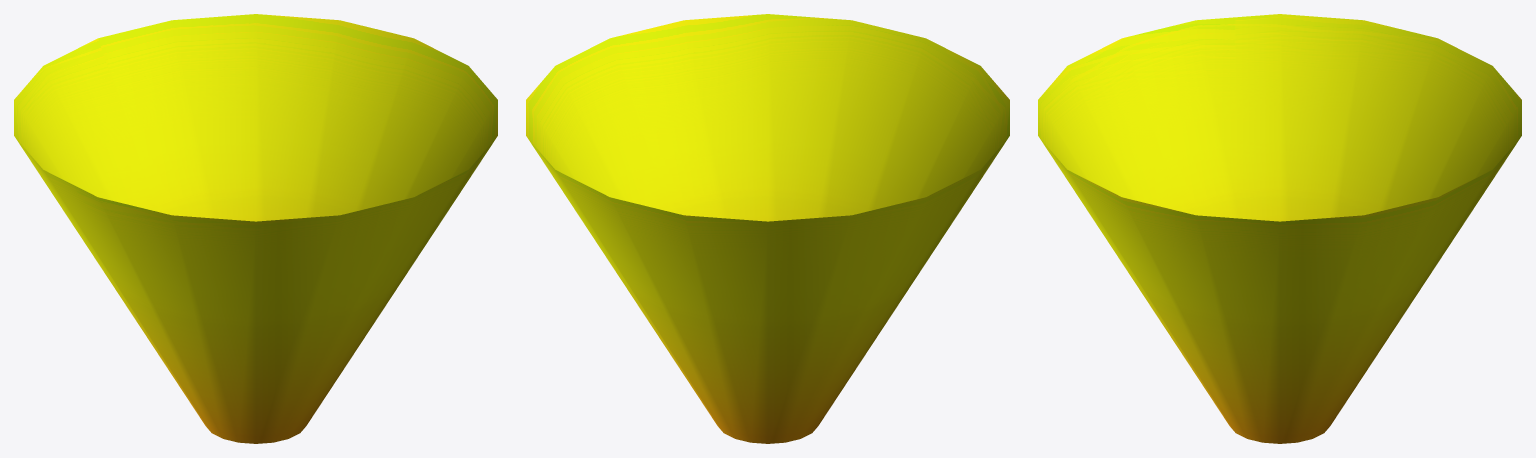
File: HoloEffect.FBX
3 views of the same model, side by side, from view 1: azimuth 30°, elevation 25°; view 2: azimuth 150°, elevation 25°; view 3: azimuth 270°, elevation 25° (orthographic).
Parts seen in each view (by area): view 1: SciFi_Conf_Room_HoloEffect; view 2: SciFi_Conf_Room_HoloEffect; view 3: SciFi_Conf_Room_HoloEffect.
Part boxes in pixels (bbox=[...]): SciFi_Conf_Room_HoloEffect: bbox=[14, 14, 497, 443]; SciFi_Conf_Room_HoloEffect: bbox=[526, 14, 1009, 443]; SciFi_Conf_Room_HoloEffect: bbox=[1038, 14, 1521, 443].
Bounding box in the file's own units: 507 × 347 × 499.
Materials: 1 (1 with a texture image).
